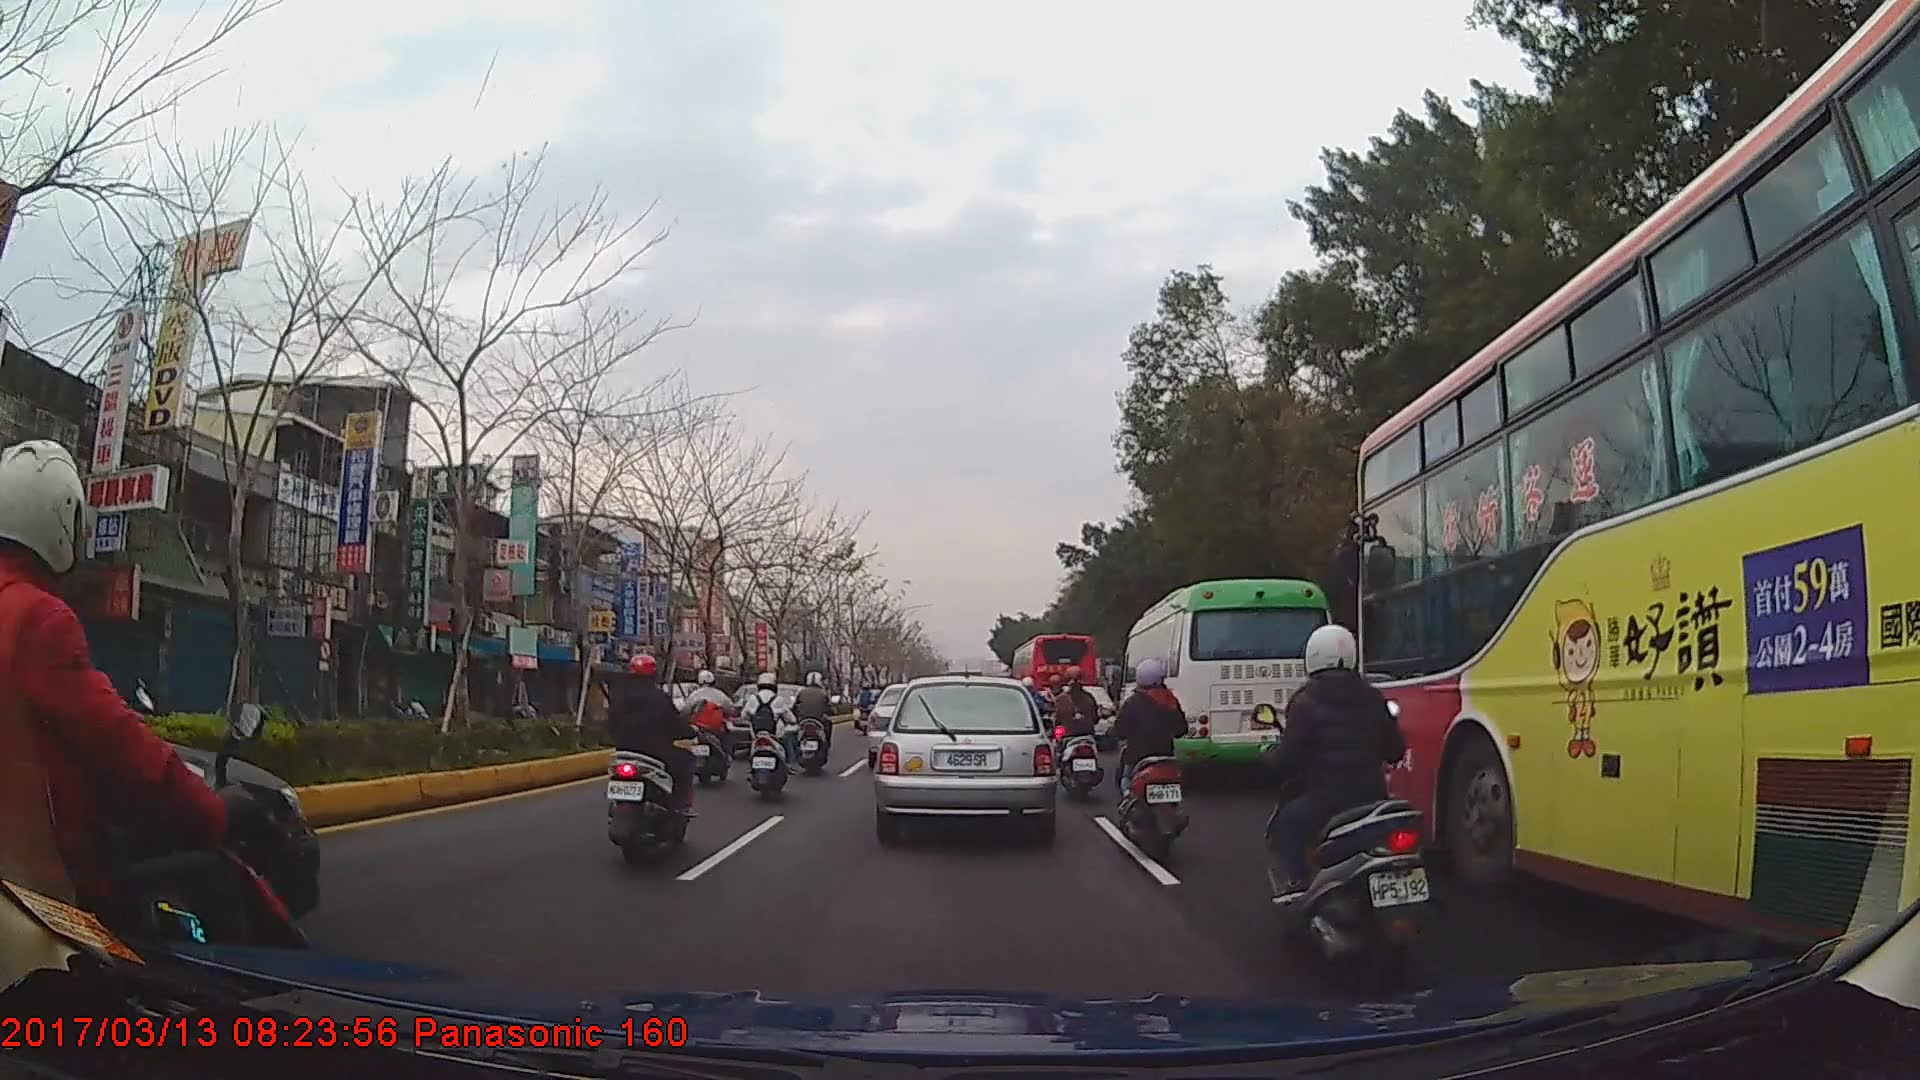rider: (1, 434, 324, 1066), (1262, 621, 1432, 978), (606, 653, 698, 865), (1111, 656, 1198, 866), (744, 673, 797, 800), (684, 668, 739, 788), (1052, 665, 1101, 792), (796, 672, 838, 774), (857, 682, 879, 721)
vehicle: (1354, 0, 1920, 1002), (0, 595, 317, 965), (1119, 577, 1342, 785), (874, 674, 1055, 839), (1012, 629, 1099, 733)
